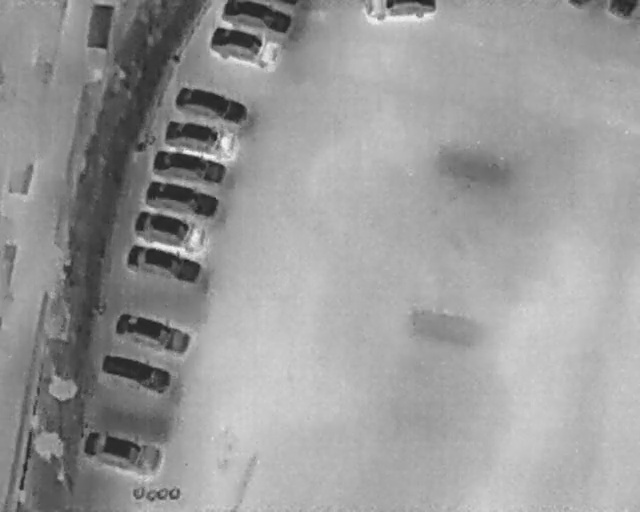Car: (77, 424, 168, 477), (203, 19, 286, 76), (111, 306, 195, 360), (121, 237, 206, 289), (171, 78, 253, 131), (130, 206, 213, 258), (140, 173, 223, 225), (96, 349, 176, 397), (149, 145, 230, 190), (160, 114, 239, 160), (222, 0, 293, 35), (363, 0, 438, 23), (604, 0, 638, 20)
